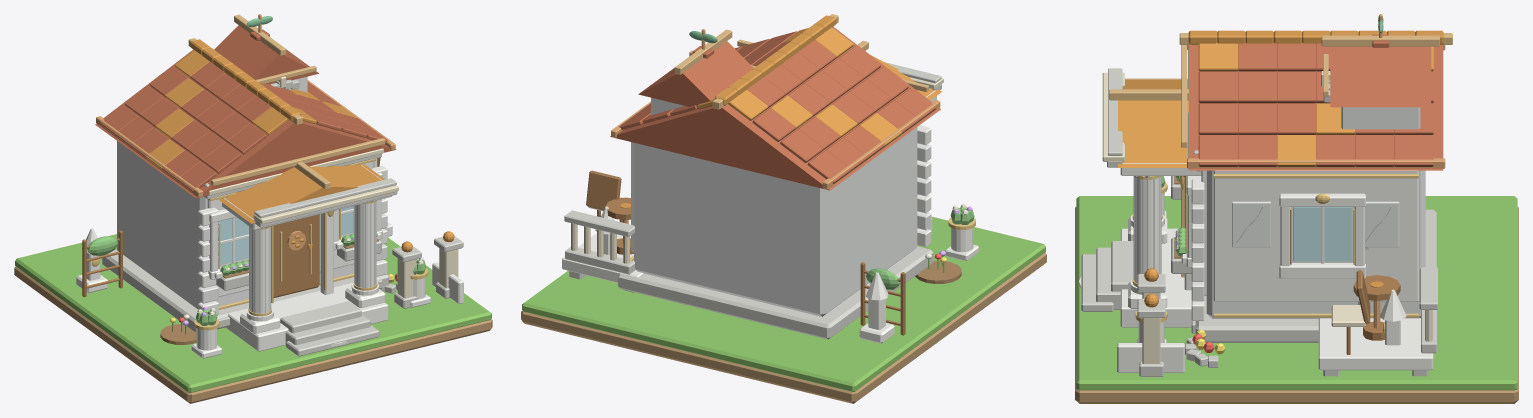
Rendered from villa_l02_active_LOD0.glb.
3 views of the same model, side by side, from view 1: azimuth 30°, elevation 25°; view 2: azimuth 150°, elevation 25°; view 3: azimuth 270°, elevation 25° (orthographic). The views are drawn at different scales.
Visible parts, largest first — view 1: villa_grass_tile, villa_l01_active_v2_marble_core, villa_l01_active_v2_main_gable_roof, villa_earth_tile, villa_l02_active_wide_portico_roof_gable_roof, villa_l01_active_v2_entry_door, villa_l02_active_wide_porch, villa_l01_active_v2_base_stone_block_low_medium_foundation, villa_l02_active_attic_roof_gable_roof, villa_l02_active_wide_column_-1_shaft, villa_l02_active_wide_column_1_shaft, villa_l01_active_v2_stairs_step_2 (+45 smaller); view 2: villa_l01_active_v2_marble_core, villa_grass_tile, villa_l01_active_v2_main_gable_roof, villa_earth_tile, villa_l01_active_v2_base_stone_block_low_medium_foundation, villa_l02_active_attic_roof_gable_roof, villa_l02_active_chair_back, villa_l02_active_terrace_deck, villa_l02_active_terrace_rail_rail, villa_l02_active_terrace_rail_sill, villa_l01_active_v2_copper_eave_-1, villa_l01_active_v2_tile_-1_01_05 (+28 smaller); view 3: villa_grass_tile, villa_l01_active_v2_right_marble_cladding, villa_earth_tile, villa_l02_active_attic_roof_gable_roof, villa_l02_active_wide_portico_roof_gable_roof, villa_l02_active_terrace_deck, villa_l01_active_v2_marble_core, villa_l01_active_v2_base_stone_block_low_medium_foundation, villa_l01_active_v2_side_window_frame, villa_l01_active_v2_main_gable_roof, villa_l01_active_v2_side_window_glass, villa_l02_active_wide_column_1_shaft (+54 smaller).
Part boxes in pixels (x1=…): villa_grass_tile: x1=15, y1=234, x2=491, y2=392; villa_l01_active_v2_marble_core: x1=117, y1=141, x2=374, y2=309; villa_l01_active_v2_main_gable_roof: x1=95, y1=49, x2=396, y2=198; villa_earth_tile: x1=14, y1=266, x2=492, y2=403; villa_l02_active_wide_portico_roof_gable_roof: x1=219, y1=164, x2=384, y2=223; villa_l01_active_v2_entry_door: x1=273, y1=214, x2=319, y2=297; villa_l02_active_wide_porch: x1=226, y1=283, x2=388, y2=351; villa_l01_active_v2_base_stone_block_low_medium_foundation: x1=102, y1=249, x2=389, y2=332; villa_l02_active_attic_roof_gable_roof: x1=214, y1=25, x2=318, y2=84; villa_l02_active_wide_column_-1_shaft: x1=249, y1=227, x2=270, y2=313; villa_l02_active_wide_column_1_shaft: x1=355, y1=201, x2=376, y2=287; villa_l01_active_v2_stairs_step_2: x1=280, y1=301, x2=361, y2=333; villa_l01_active_v2_marble_core: x1=634, y1=127, x2=917, y2=316; villa_grass_tile: x1=522, y1=216, x2=1045, y2=391; villa_l01_active_v2_main_gable_roof: x1=610, y1=26, x2=940, y2=190; villa_earth_tile: x1=521, y1=252, x2=1046, y2=403; villa_l01_active_v2_base_stone_block_low_medium_foundation: x1=618, y1=246, x2=933, y2=339; villa_l02_active_attic_roof_gable_roof: x1=638, y1=41, x2=753, y2=109; villa_l02_active_chair_back: x1=586, y1=170, x2=621, y2=210; villa_l02_active_terrace_deck: x1=562, y1=233, x2=643, y2=282; villa_l02_active_terrace_rail_rail: x1=564, y1=210, x2=634, y2=236; villa_l02_active_terrace_rail_sill: x1=565, y1=247, x2=635, y2=274; villa_l01_active_v2_copper_eave_-1: x1=822, y1=100, x2=940, y2=189; villa_l01_active_v2_tile_-1_01_05: x1=752, y1=108, x2=795, y2=141; villa_grass_tile: x1=1076, y1=196, x2=1517, y2=390; villa_l01_active_v2_right_marble_cladding: x1=1213, y1=170, x2=1418, y2=301; villa_earth_tile: x1=1075, y1=207, x2=1518, y2=403; villa_l02_active_attic_roof_gable_roof: x1=1330, y1=46, x2=1431, y2=107; villa_l02_active_wide_portico_roof_gable_roof: x1=1118, y1=78, x2=1188, y2=167; villa_l02_active_terrace_deck: x1=1318, y1=318, x2=1433, y2=370; villa_l01_active_v2_marble_core: x1=1206, y1=170, x2=1425, y2=318; villa_l01_active_v2_base_stone_block_low_medium_foundation: x1=1195, y1=209, x2=1436, y2=342; villa_l01_active_v2_side_window_frame: x1=1290, y1=207, x2=1354, y2=262; villa_l01_active_v2_main_gable_roof: x1=1189, y1=45, x2=1443, y2=170; villa_l01_active_v2_side_window_glass: x1=1293, y1=207, x2=1352, y2=261; villa_l02_active_wide_column_1_shaft: x1=1134, y1=177, x2=1160, y2=282.
Size of the model in its own units: 3.6 by 2.88 by 3.6.
